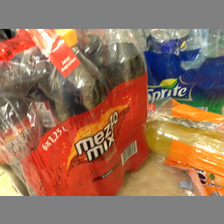soda: (49, 30, 122, 194), (95, 30, 151, 172)
